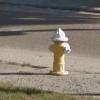Hydrant: (42, 20, 79, 78)
